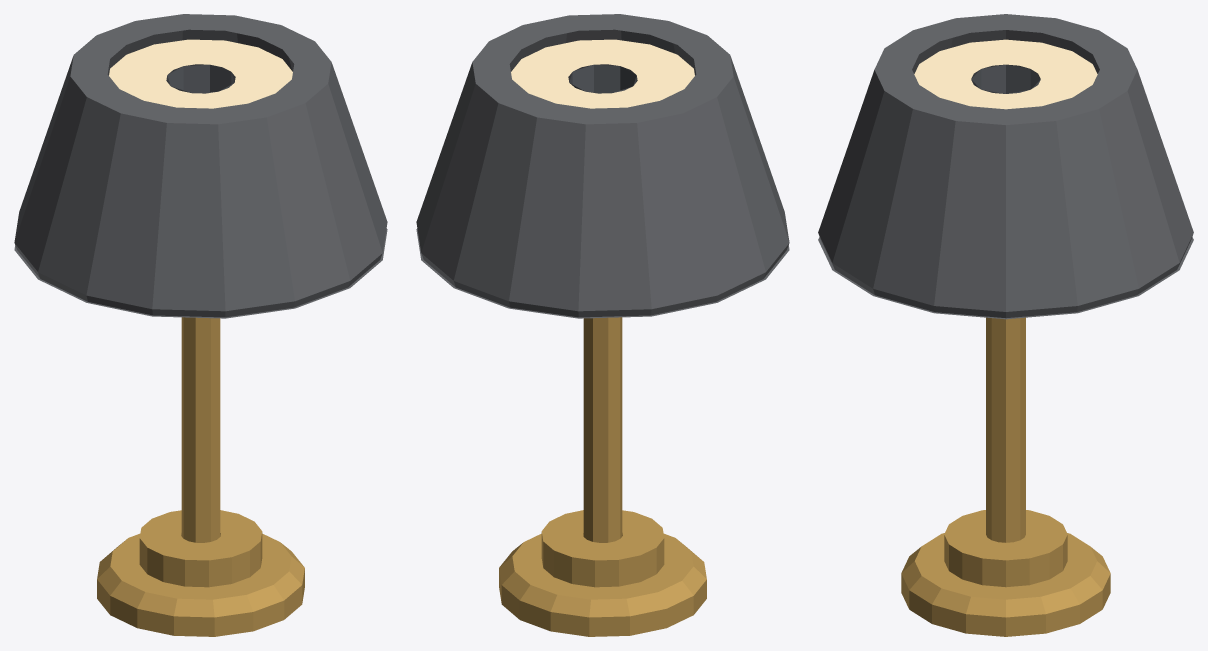
The model's file is FN_Lamp_Table.glb.
3 renders of one model, left to right at view 1: azimuth 30°, elevation 25°; view 2: azimuth 150°, elevation 25°; view 3: azimuth 270°, elevation 25°, orthographic.
Parts seen in each view (by area): view 1: FN_Lamp_Table; view 2: FN_Lamp_Table; view 3: FN_Lamp_Table.
Boxes of the visible parts, bbox=[...] form: FN_Lamp_Table: bbox=[14, 14, 387, 636]; FN_Lamp_Table: bbox=[416, 14, 789, 636]; FN_Lamp_Table: bbox=[818, 14, 1193, 636].
Bounding box in the file's own units: 0.28 × 0.43 × 0.28.
2 materials, 2 textured.
